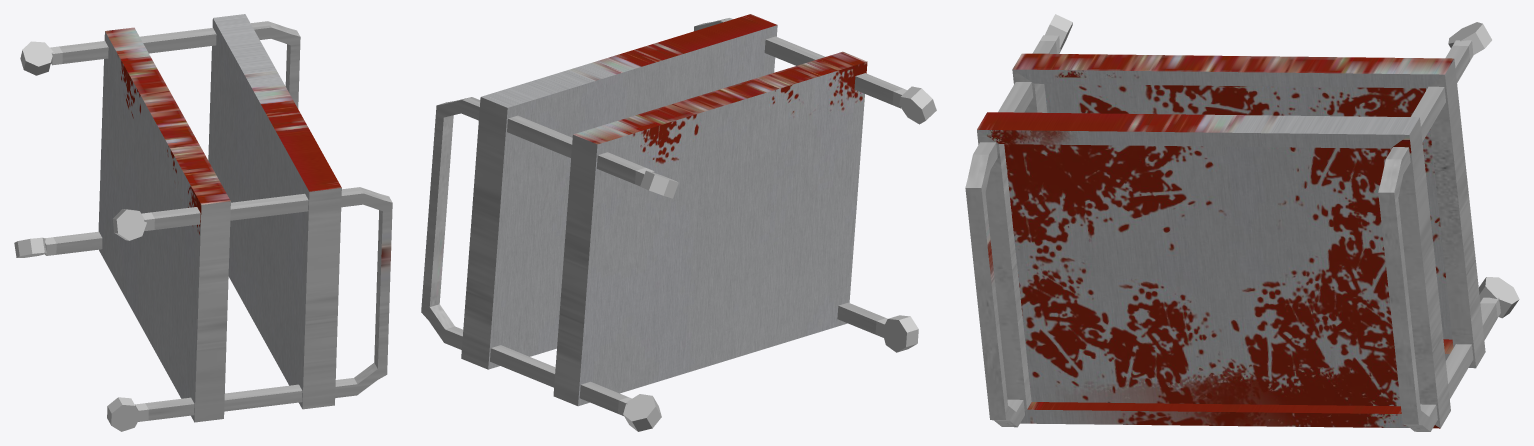
The model's file is mesa2.fbx.
3 renders of one model, left to right at view 1: azimuth 30°, elevation 25°; view 2: azimuth 150°, elevation 25°; view 3: azimuth 270°, elevation 25°, orthographic. The views are drawn at different scales.
Visible parts, largest first — view 1: Cube.790; view 2: Cube.790; view 3: Cube.790.
Part boxes in pixels (<box>): Cube.790: <box>14,14,392,431</box>; Cube.790: <box>421,14,936,431</box>; Cube.790: <box>965,14,1519,431</box>.
Size of the model in its own units: 141 by 110 by 167.
